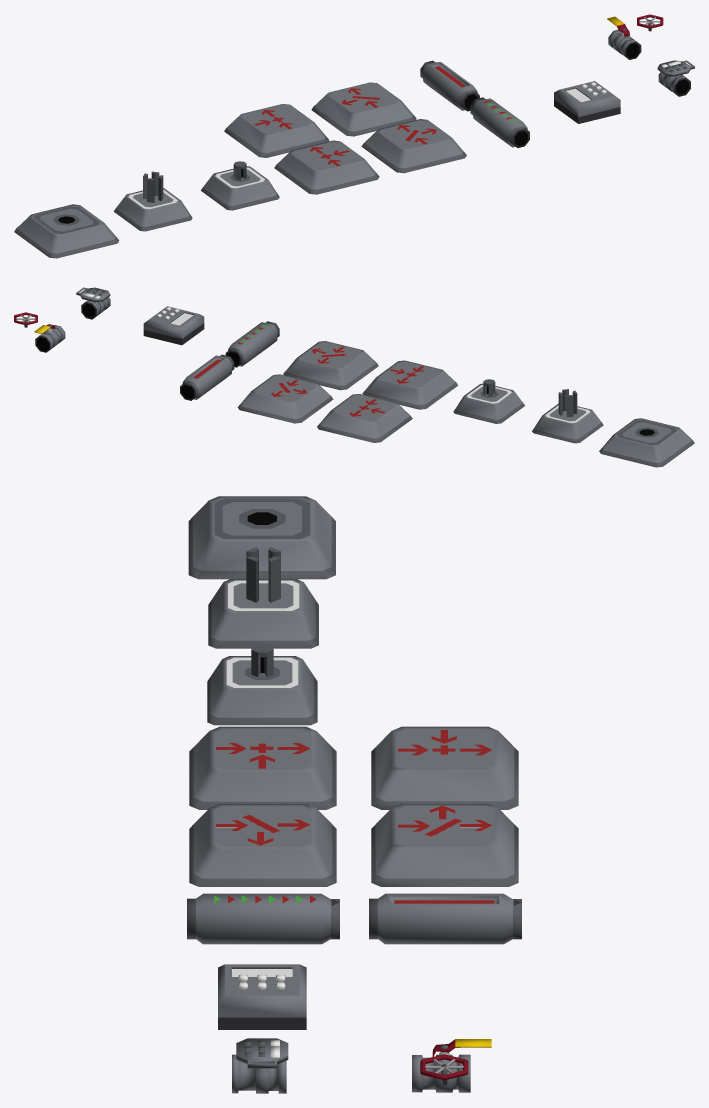
File: PipeMachinery.fbx
3 views of the same model, one above another, from view 1: azimuth 30°, elevation 25°; view 2: azimuth 150°, elevation 25°; view 3: azimuth 270°, elevation 25° (orthographic). The views are drawn at different scales.
Visible parts, largest first — view 1: FilterR, ConnectorPort, MixerR, FilterL, MixerL, Ignitor, Injector, Meter, Pump, PumpVolume, ValveDigital, ValveManual; view 2: FilterL, ConnectorPort, MixerL, MixerR, FilterR, Ignitor, Injector, Meter, PumpVolume, Pump, ValveDigital, ValveManual; view 3: FilterL, FilterR, MixerR, MixerL, ConnectorPort, Ignitor, PumpVolume, Pump, Injector, Meter, ValveDigital, ValveManual (+1 smaller).
Boxes of the visible parts, left/top/right/bottom form: FilterR: left=361, top=119, right=466, bottom=173; ConnectorPort: left=14, top=204, right=119, bottom=258; MixerR: left=274, top=140, right=379, bottom=194; FilterL: left=311, top=82, right=416, bottom=136; MixerL: left=224, top=104, right=329, bottom=157; Ignitor: left=114, top=171, right=192, bottom=231; Injector: left=201, top=161, right=279, bottom=210; Meter: left=554, top=81, right=620, bottom=123; Pump: left=470, top=97, right=529, bottom=147; PumpVolume: left=420, top=60, right=479, bottom=111; ValveDigital: left=657, top=60, right=694, bottom=96; ValveManual: left=608, top=30, right=641, bottom=59; FilterL: left=237, top=374, right=333, bottom=423; ConnectorPort: left=599, top=418, right=694, bottom=467; MixerL: left=317, top=394, right=412, bottom=442; MixerR: left=362, top=360, right=457, bottom=409; FilterR: left=283, top=341, right=378, bottom=390; Ignitor: left=532, top=389, right=603, bottom=443; Injector: left=453, top=379, right=524, bottom=423; Meter: left=143, top=306, right=204, bottom=345; PumpVolume: left=180, top=354, right=234, bottom=400; Pump: left=225, top=321, right=279, bottom=367; ValveDigital: left=76, top=287, right=110, bottom=319; ValveManual: left=35, top=325, right=65, bottom=352; FilterL: left=371, top=804, right=518, bottom=886; FilterR: left=189, top=804, right=336, bottom=886; MixerR: left=189, top=726, right=336, bottom=809; MixerL: left=371, top=726, right=518, bottom=809; ConnectorPort: left=188, top=496, right=335, bottom=579; Ignitor: left=208, top=547, right=318, bottom=648; PumpVolume: left=369, top=893, right=521, bottom=944; Pump: left=187, top=893, right=339, bottom=944; Injector: left=207, top=643, right=317, bottom=725; Meter: left=218, top=964, right=306, bottom=1029; ValveDigital: left=232, top=1038, right=288, bottom=1093; ValveManual: left=412, top=1052, right=470, bottom=1092.
Size of the model in its own units: 7.86 by 0.475 by 1.84.
